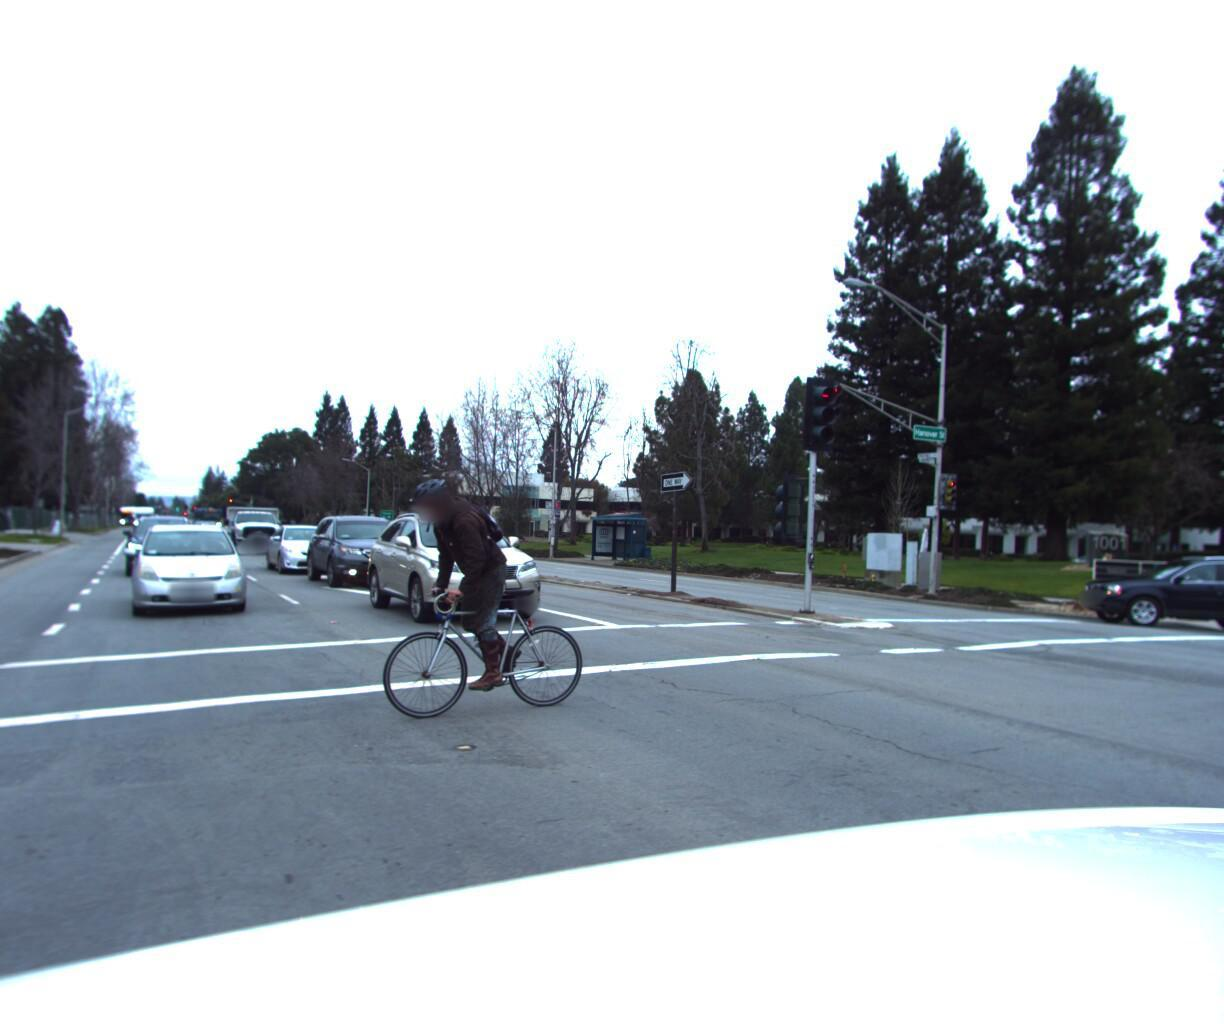bicycle: (328, 449, 605, 729)
car: (350, 497, 560, 627), (1065, 543, 1224, 633), (120, 514, 249, 615), (296, 506, 426, 589), (113, 509, 201, 575), (260, 521, 348, 573), (218, 497, 285, 550)
